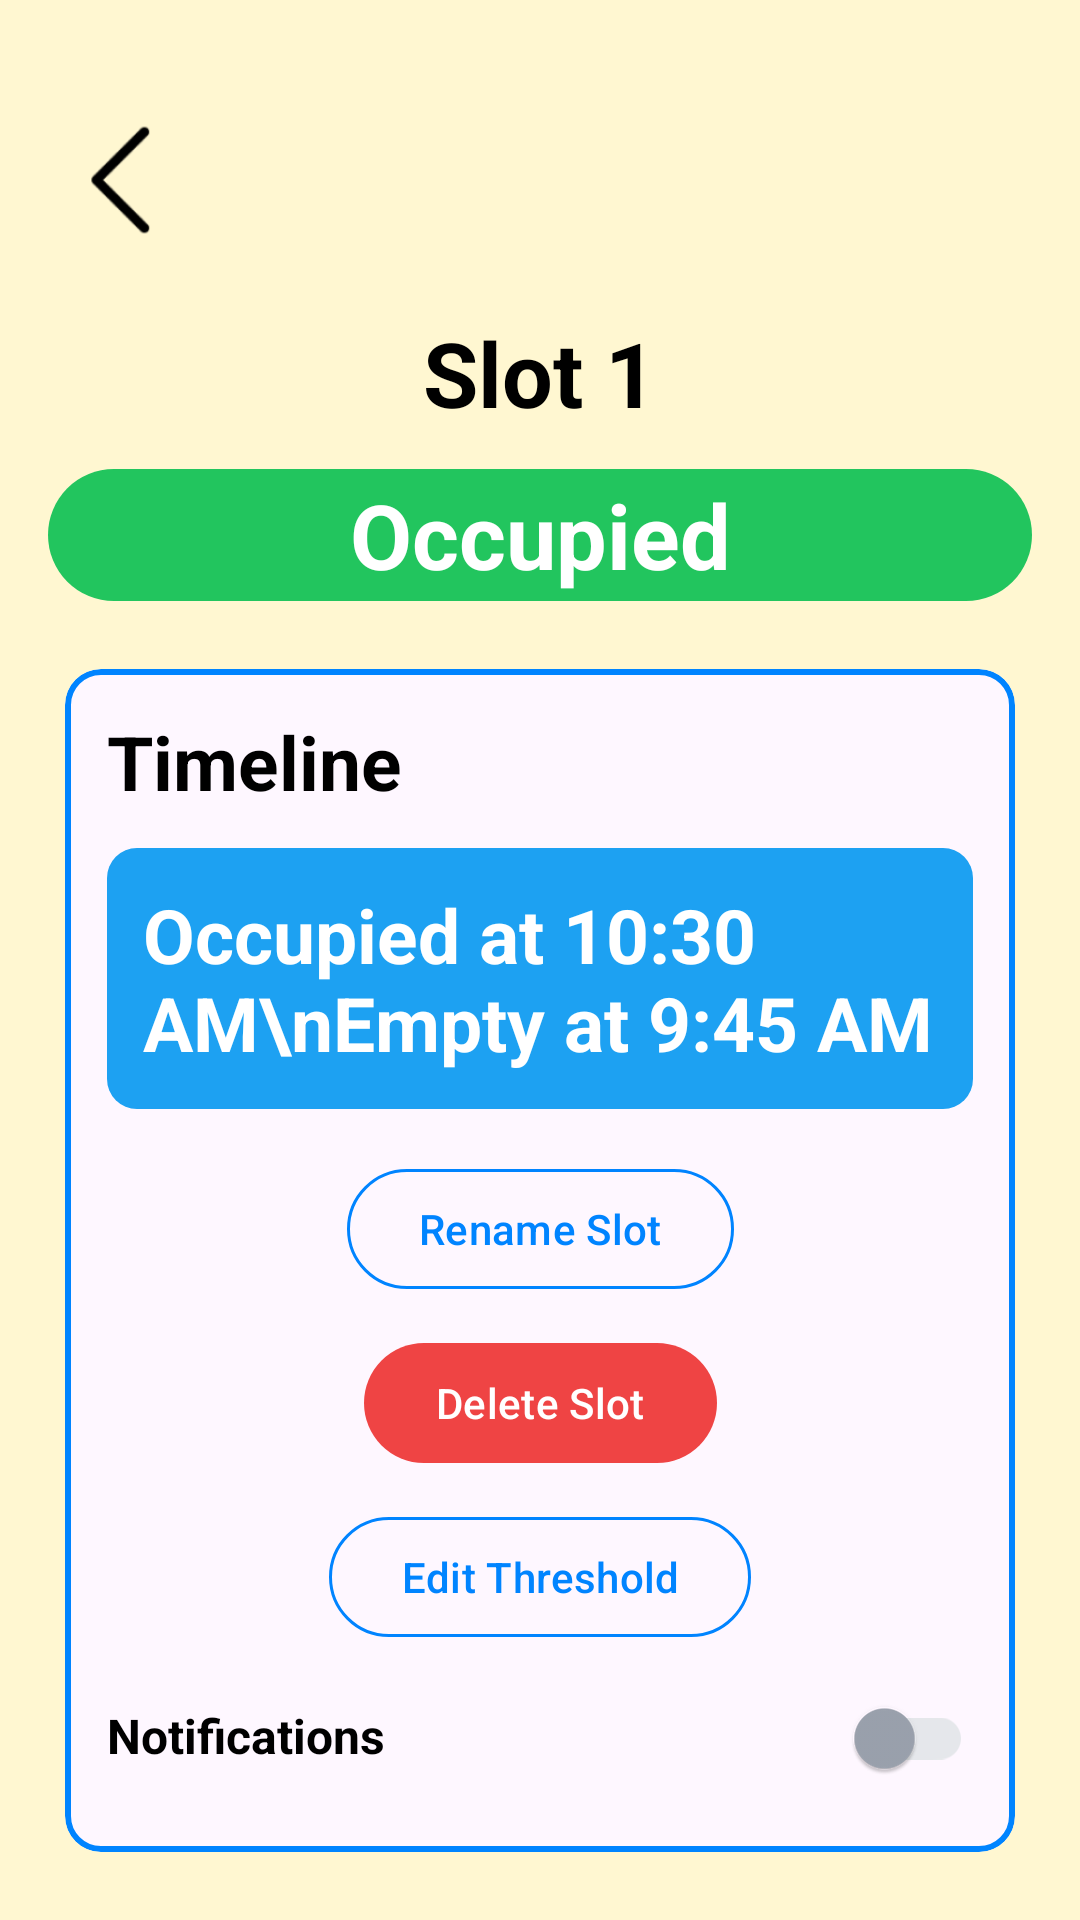

Icon bounding boxes for this 1080px×1920px phone screenshot, format (x1, y1, x2, y2):
Back: (91, 126, 150, 234)
